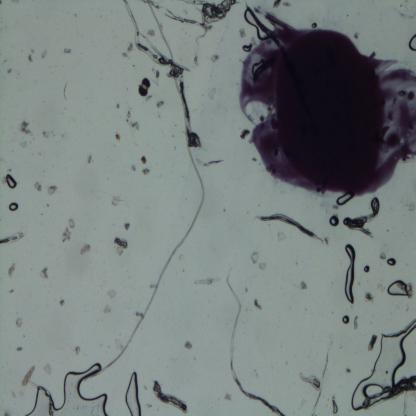Air bubble: (349, 317, 416, 411), (27, 360, 112, 415), (123, 371, 143, 415), (344, 244, 355, 305), (385, 279, 414, 300), (335, 192, 354, 206), (6, 172, 18, 189), (329, 216, 340, 228), (8, 201, 20, 212), (387, 256, 397, 268), (342, 314, 351, 326), (364, 264, 370, 275)
Background material: (205, 1, 234, 28), (192, 274, 224, 288), (20, 363, 37, 388), (112, 234, 130, 254), (360, 288, 376, 306), (127, 106, 139, 130), (17, 119, 33, 136), (6, 262, 17, 282), (368, 332, 378, 354), (207, 50, 220, 65), (248, 249, 260, 265), (106, 286, 118, 302), (61, 226, 72, 243), (62, 80, 70, 102), (79, 242, 92, 255), (42, 361, 53, 376), (240, 126, 251, 140), (39, 264, 49, 279), (45, 185, 58, 196), (86, 152, 96, 166), (67, 216, 77, 230), (277, 231, 289, 242), (122, 220, 132, 233), (104, 302, 113, 316), (112, 97, 122, 109), (298, 280, 308, 292), (156, 98, 166, 110), (27, 47, 35, 62), (254, 298, 263, 311), (272, 0, 283, 10), (184, 338, 194, 349), (112, 195, 122, 206), (139, 155, 149, 166), (62, 46, 73, 56), (142, 167, 152, 178), (354, 315, 360, 333), (15, 317, 24, 329), (42, 130, 52, 140), (32, 182, 43, 191), (21, 137, 30, 148), (74, 344, 82, 356), (58, 296, 66, 308), (380, 250, 386, 262), (259, 262, 267, 271), (42, 50, 49, 60), (116, 128, 121, 142), (311, 20, 318, 29), (131, 164, 136, 173), (6, 68, 12, 74)
Cellulose filter fibre: (224, 265, 287, 415), (122, 1, 190, 74), (300, 337, 334, 416), (254, 210, 324, 243), (149, 0, 215, 32), (189, 0, 213, 72), (343, 198, 383, 238), (152, 378, 189, 414), (196, 151, 226, 169), (0, 229, 30, 245), (407, 31, 416, 53), (332, 398, 340, 415)
Diatom: (136, 78, 152, 97)
Microfibre: (82, 0, 206, 383)
Pen: (232, 11, 416, 196)
